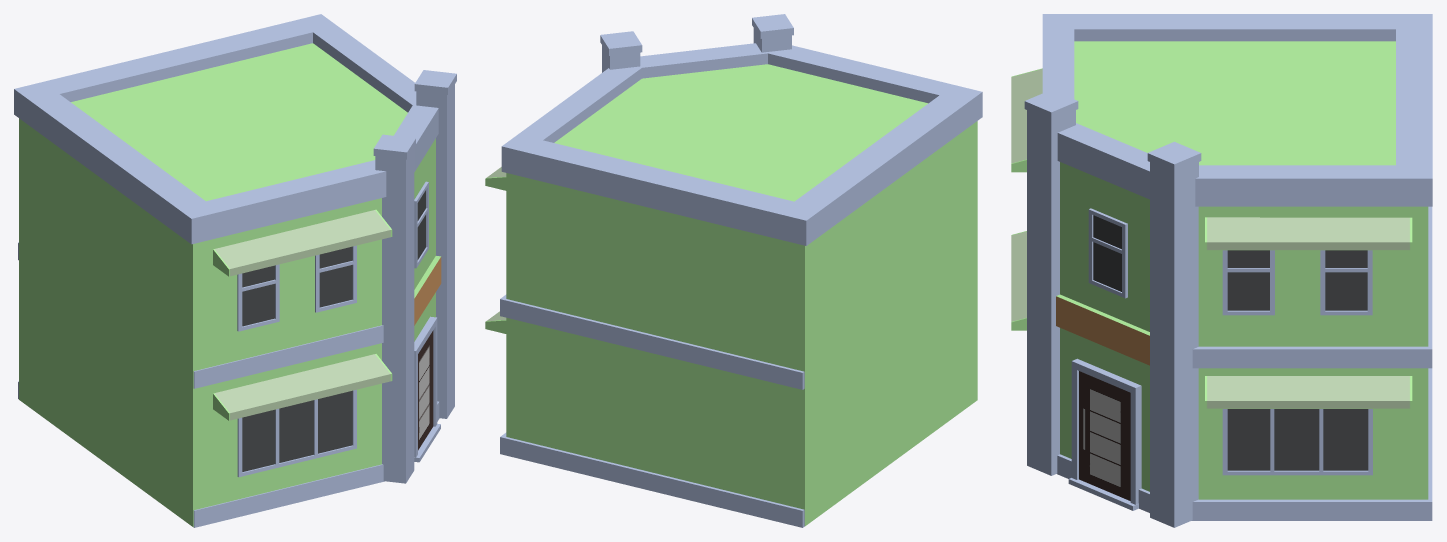
Rendered from Building_Green2.fbx.
3 renders of one model, left to right at view 1: azimuth 30°, elevation 25°; view 2: azimuth 150°, elevation 25°; view 3: azimuth 270°, elevation 25°, orthographic. The views are drawn at different scales.
Parts seen in each view (by area): view 1: Building_Green2; view 2: Building_Green2; view 3: Building_Green2.
Part boxes in pixels (bbox=[...]): Building_Green2: bbox=[14, 14, 456, 527]; Building_Green2: bbox=[485, 14, 982, 527]; Building_Green2: bbox=[1011, 14, 1432, 527].
Size of the model in its own units: 36.47 by 34.82 by 36.38.
Materials: 1 (1 with a texture image).
